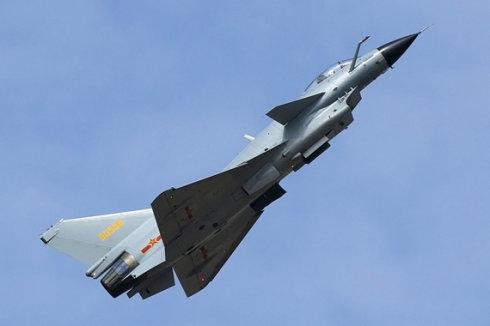airplane: (35, 28, 427, 305)
